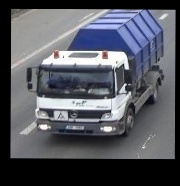truck: (26, 9, 164, 137)
